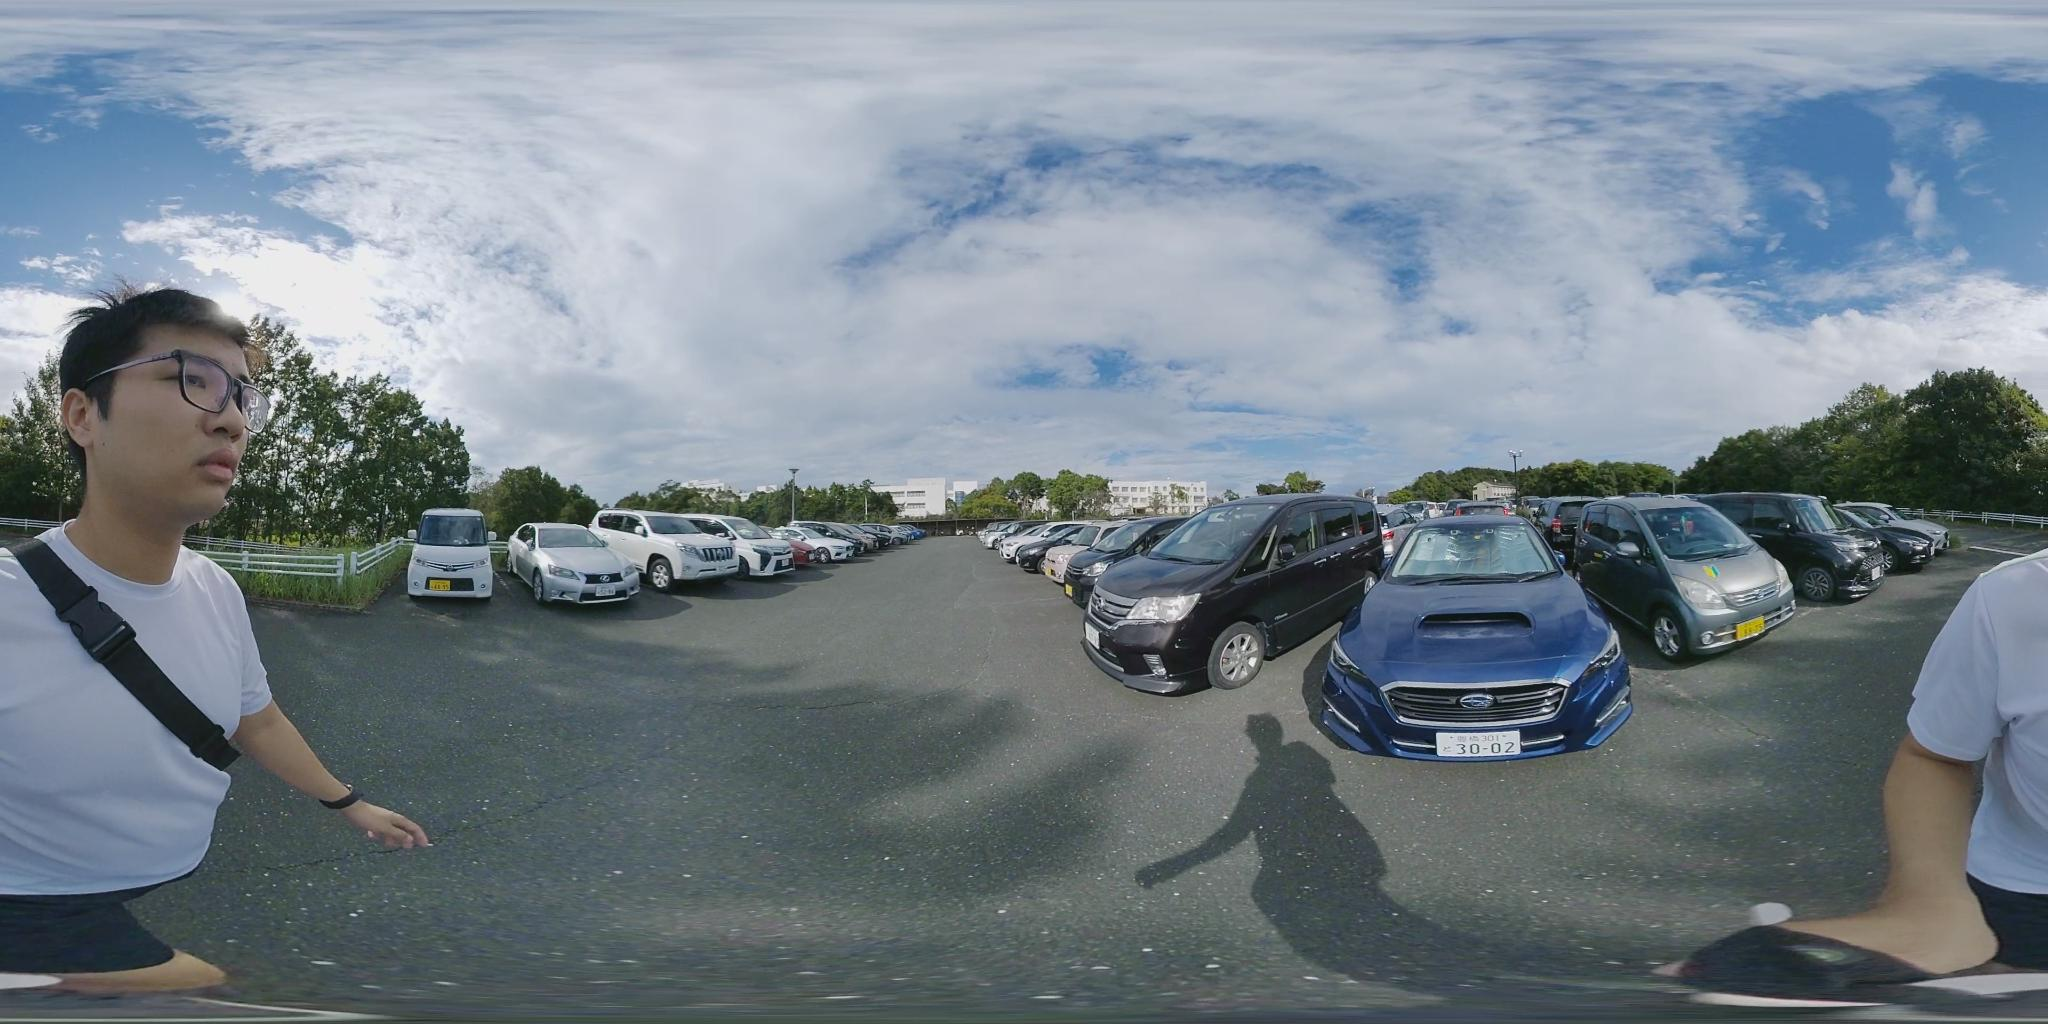car: (1306, 509, 1640, 761), (1074, 491, 1407, 696), (1561, 498, 1806, 665), (1671, 492, 1894, 602), (592, 513, 778, 583), (507, 522, 647, 605), (1038, 521, 1177, 588), (408, 507, 492, 601), (1826, 504, 1946, 567), (989, 524, 1078, 568), (790, 524, 870, 563), (879, 526, 922, 549)
